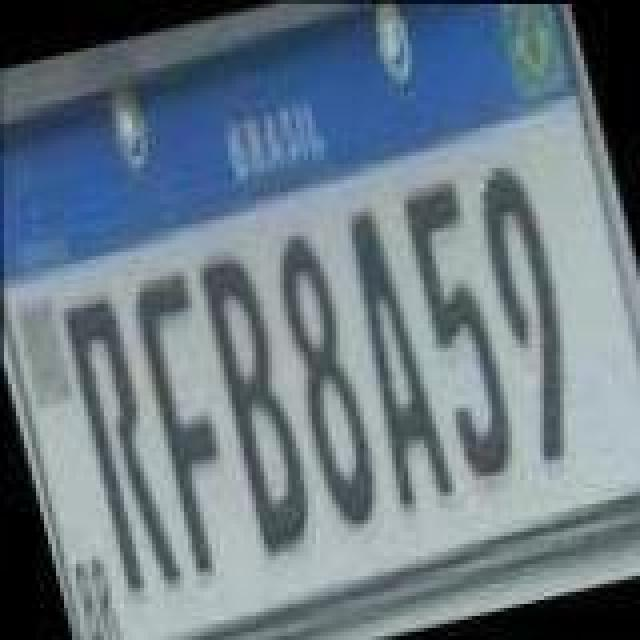5: (392, 174, 524, 486)
8: (262, 222, 390, 534)
9: (464, 160, 596, 472)
A: (328, 198, 460, 510)
B: (192, 250, 324, 562)
F: (122, 270, 258, 582)
R: (58, 296, 186, 600)
